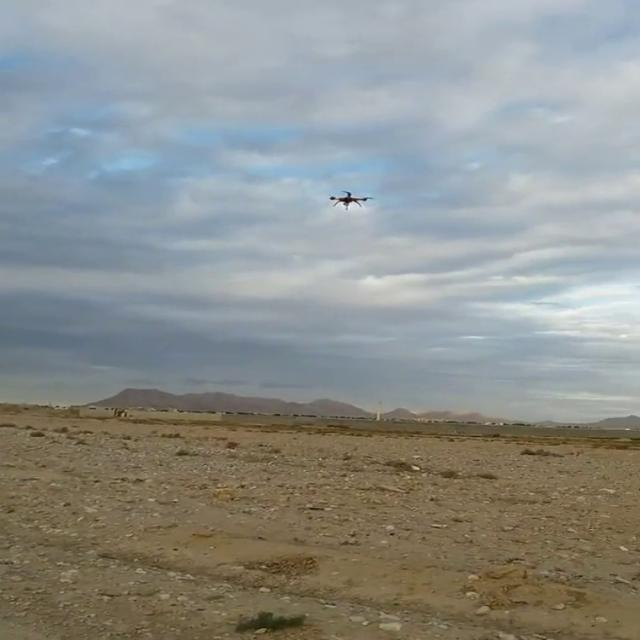drone: (324, 184, 376, 212)
